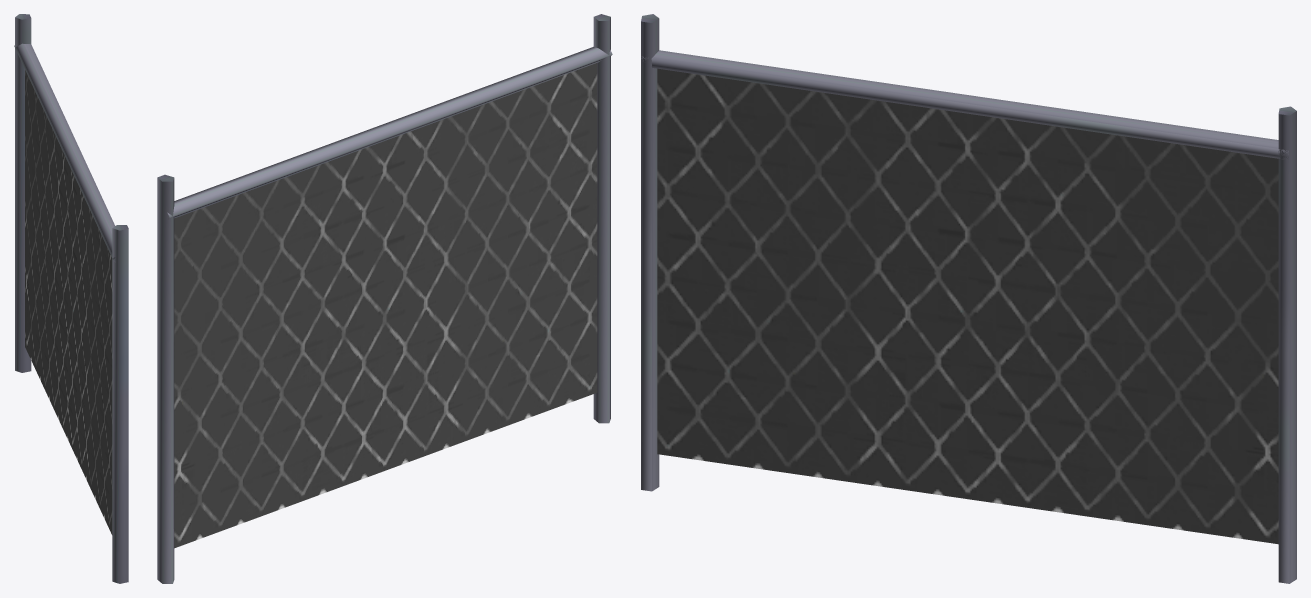
The model's file is fence.fbx.
3 renders of one model, left to right at view 1: azimuth 30°, elevation 25°; view 2: azimuth 150°, elevation 25°; view 3: azimuth 270°, elevation 25°, orthographic. The views are drawn at different scales.
Parts seen in each view (by area): view 1: fence; view 2: fence; view 3: fence.
Part boxes in pixels (left/top/right/bottom): fence: left=14, top=14, right=128, bottom=583; fence: left=157, top=14, right=612, bottom=583; fence: left=641, top=14, right=1296, bottom=583.
Bounding box in the file's own units: 57.35 × 122 × 155.
